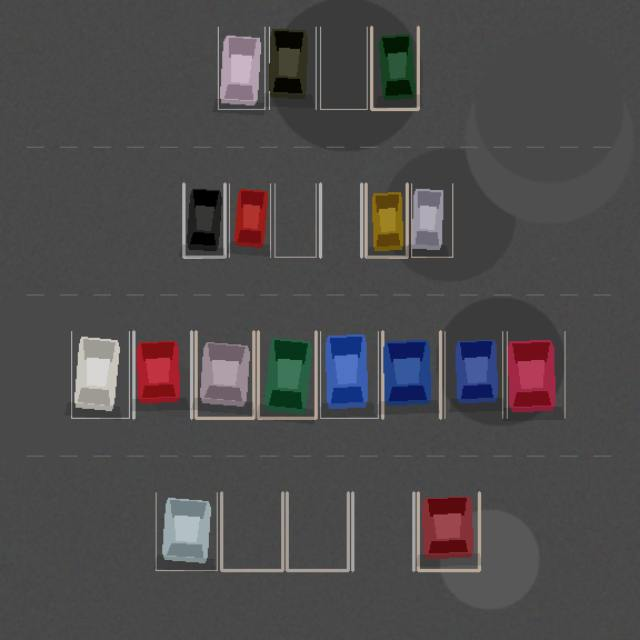space-empty: (221, 492, 282, 570), (287, 492, 348, 570), (352, 492, 413, 570), (320, 27, 367, 109), (274, 183, 316, 257), (320, 183, 361, 257)
space-occupied: (71, 331, 129, 418), (133, 331, 191, 418), (258, 331, 316, 418), (320, 331, 378, 418), (382, 331, 440, 418), (444, 331, 502, 418), (196, 331, 253, 418), (507, 331, 564, 418), (156, 492, 217, 570), (418, 492, 479, 570), (269, 27, 316, 109), (371, 27, 418, 109), (218, 27, 264, 109), (183, 183, 224, 257), (229, 183, 270, 257), (366, 183, 407, 257), (411, 183, 452, 257)
